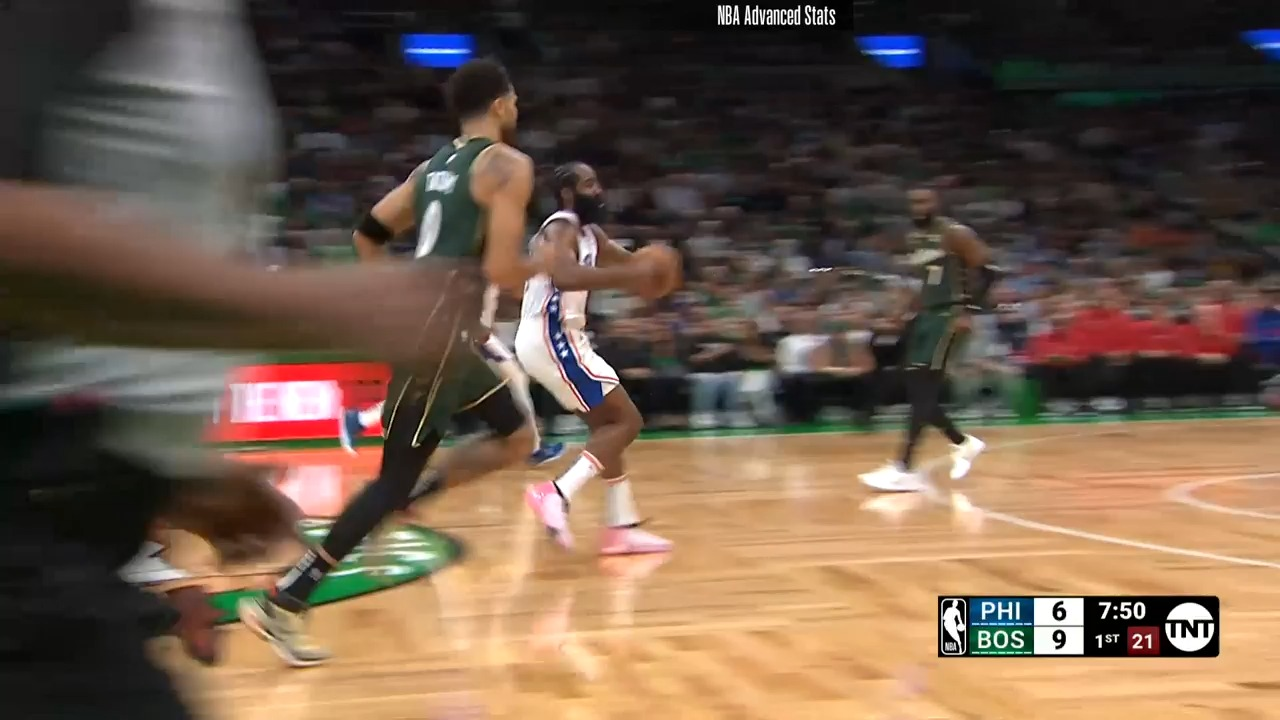player: (233, 57, 544, 666), (515, 157, 674, 557), (864, 182, 990, 485)
